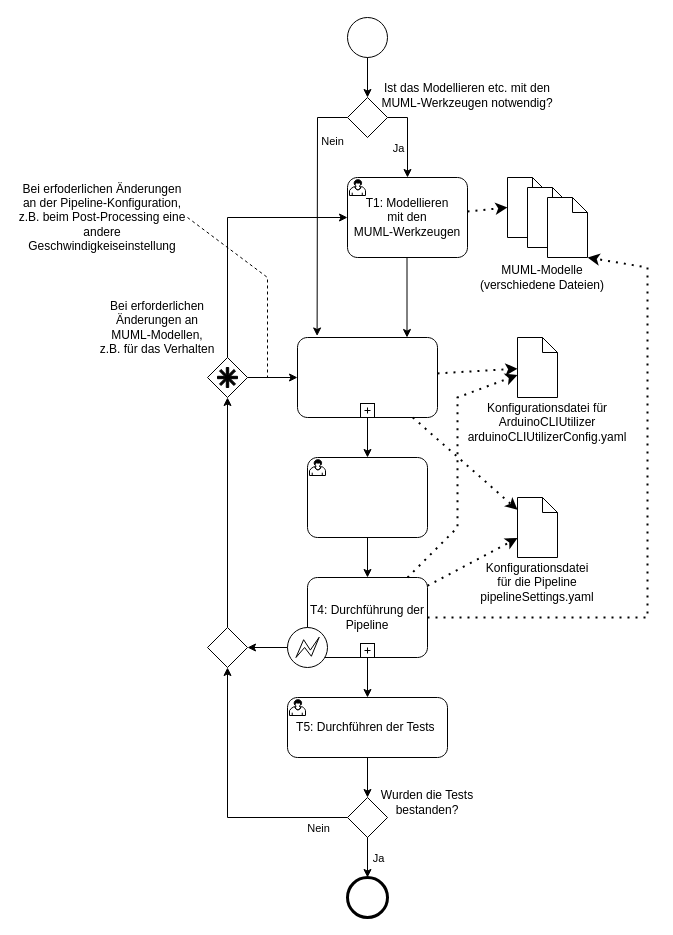
Some shapes in this 673 by 935 pixel diagram are drawn without their labels. The shapes that lost their labels are listed below. From the top down, each one's centre as x and y in pixels, then its label:
At [367,377]: "T2: Erstellen und/oder Einstellen der Konfigurationsdateien".
At [367,497]: "T3 : Starten der Pipeline".
